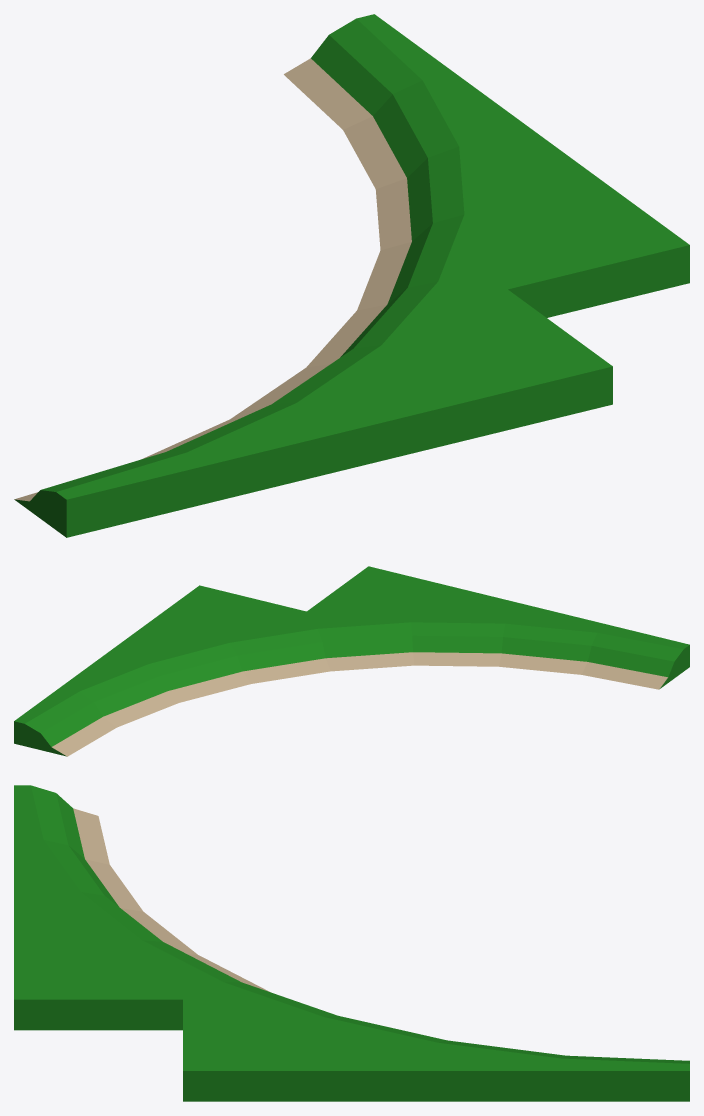
The model's file is path_edge_corner_outer_x2.obj.
The picture shows the model from 3 angles, top to bottom: view 1: azimuth 30°, elevation 25°; view 2: azimuth 150°, elevation 25°; view 3: azimuth 270°, elevation 25°; orthographic projection. The views are drawn at different scales.
Parts seen in each view (by area): view 1: 2Outer.001_Circle.013; view 2: 2Outer.001_Circle.013; view 3: 2Outer.001_Circle.013.
Part boxes in pixels (x1,y1,x2,y2): 2Outer.001_Circle.013: (14,14,689,537); 2Outer.001_Circle.013: (14,566,689,756); 2Outer.001_Circle.013: (14,785,689,1101).
Size of the model in its own units: 4 by 0.2 by 4.
